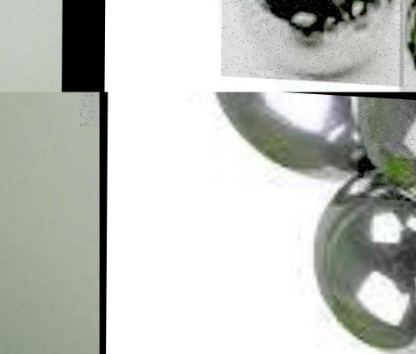ironball: (310, 161, 414, 352), (221, 0, 405, 82), (214, 90, 373, 181), (357, 92, 415, 196)
